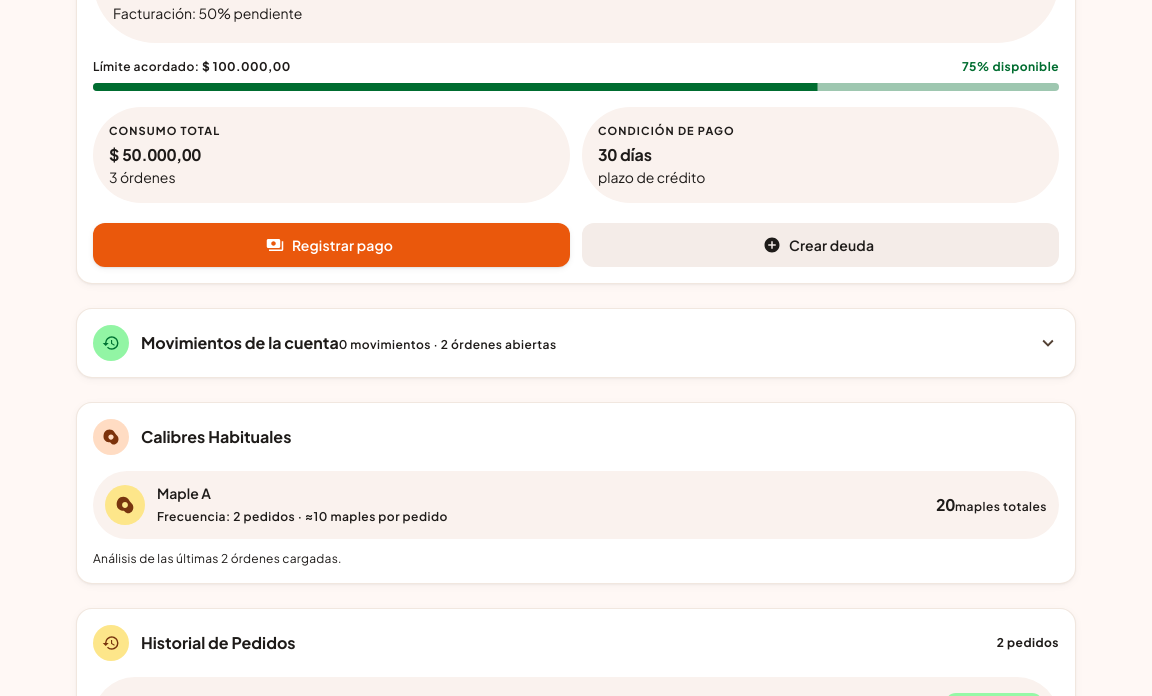
Scenario: CustomerDetailPage — account action hub › renders the account movements section collapsed and expands to the empty state
This screenshot has width=1152, height=696.
(page scrolled)
Expected: the text "Sin movimientos" is not shown
Click the button "Movimientos de la cuenta0 movimientos · 2 órdenes abiertas" at (111, 343), box [93,325,1059,361]
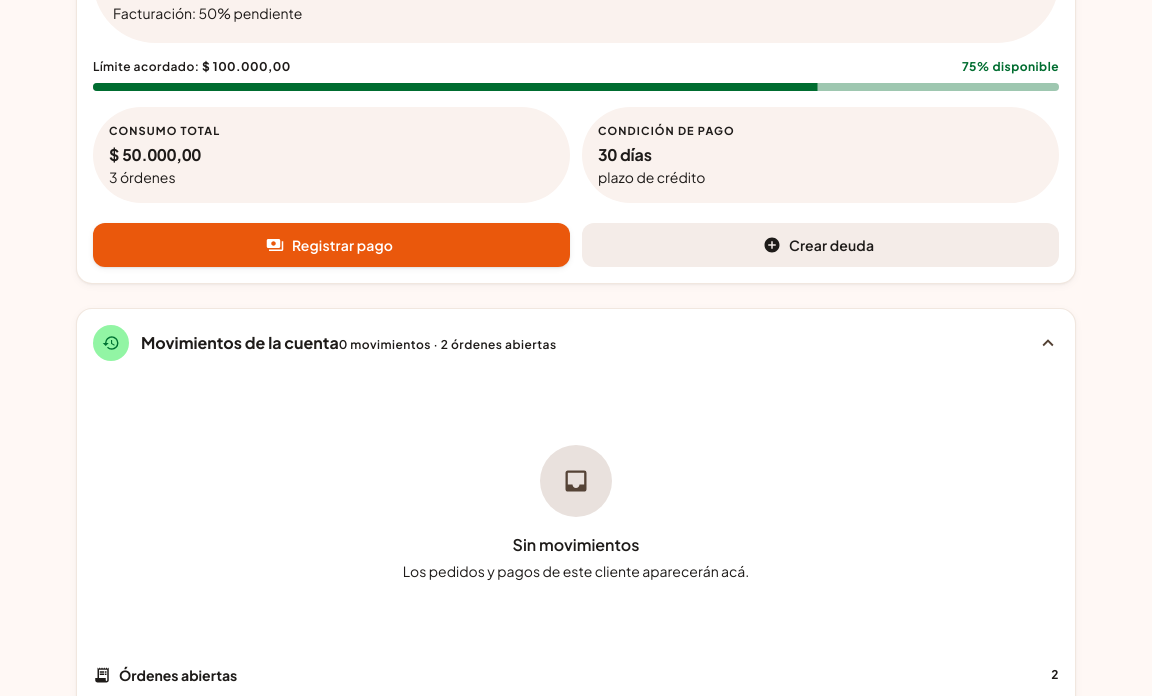
Expected: the button "Movimientos de la cuenta0 movimientos · 2 órdenes abiertas" is expanded, [93,325,1059,361]
Expected: the text "Sin movimientos" is shown, [512,533,639,557]
